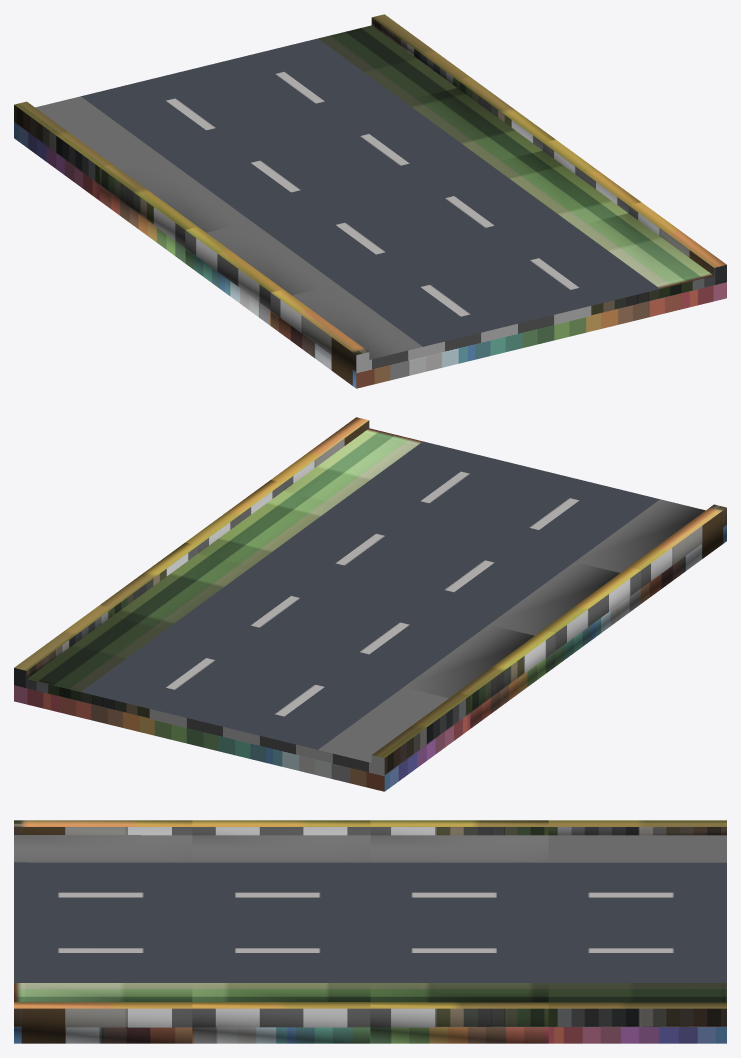
File: road5.fbx
3 renders of one model, top to bottom at view 1: azimuth 30°, elevation 25°; view 2: azimuth 150°, elevation 25°; view 3: azimuth 270°, elevation 25°, orthographic. The views are drawn at different scales.
Visible parts, largest first — view 1: SM_Tile_Cube_Road3Lane_01; view 2: SM_Tile_Cube_Road3Lane_01; view 3: SM_Tile_Cube_Road3Lane_01.
Part boxes in pixels (left/top/right/bottom): SM_Tile_Cube_Road3Lane_01: left=14, top=14, right=726, bottom=388; SM_Tile_Cube_Road3Lane_01: left=14, top=417, right=726, bottom=791; SM_Tile_Cube_Road3Lane_01: left=14, top=820, right=726, bottom=1043.
Bounding box in the file's own units: 5 × 0.4333 × 8.
